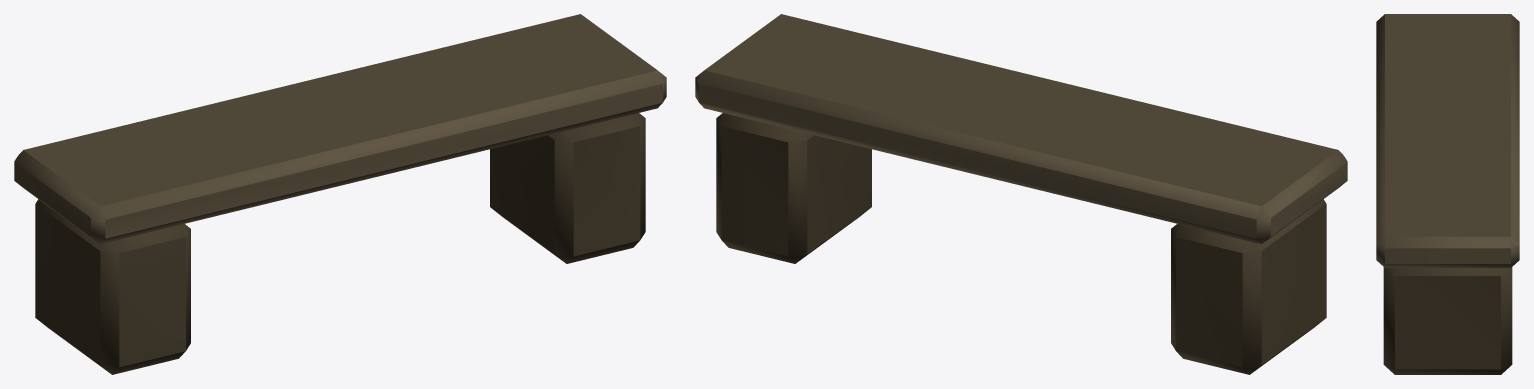
The model's file is Banco4.fbx.
The picture shows the model from 3 angles, left to right: view 1: azimuth 30°, elevation 25°; view 2: azimuth 150°, elevation 25°; view 3: azimuth 270°, elevation 25°; orthographic projection. The views are drawn at different scales.
Parts seen in each view (by area): view 1: Banco4; view 2: Banco4; view 3: Banco4.
Boxes of the visible parts, x1,y1,x2,y2 form: Banco4: [14, 14, 666, 374]; Banco4: [695, 14, 1347, 374]; Banco4: [1376, 14, 1519, 374].
Bounding box in the file's own units: 1.9 × 0.56 × 0.5.
